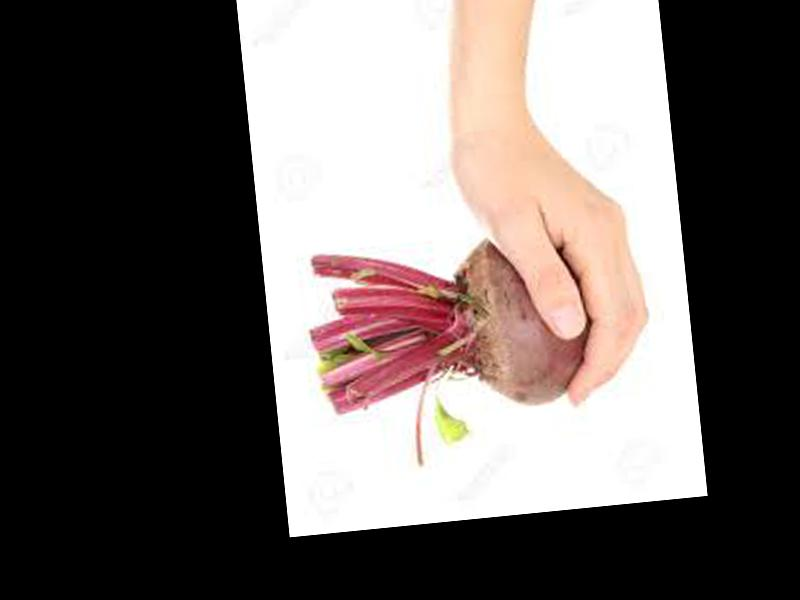Beet: (303, 230, 604, 477)
